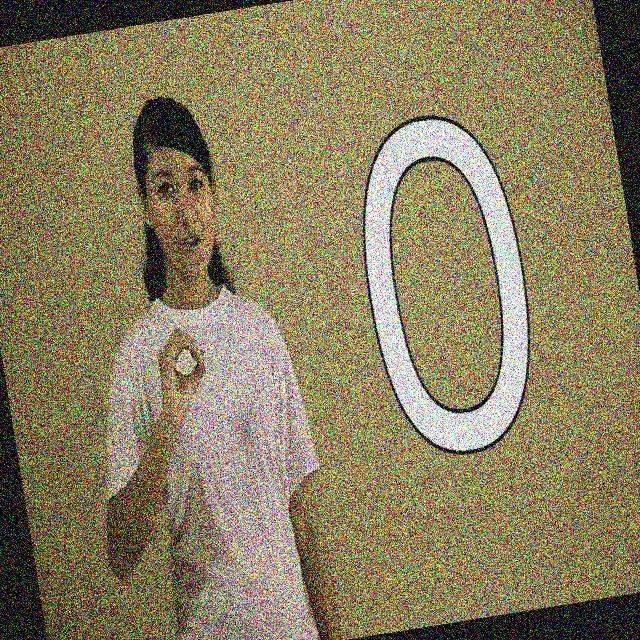O: (154, 320, 211, 406)
